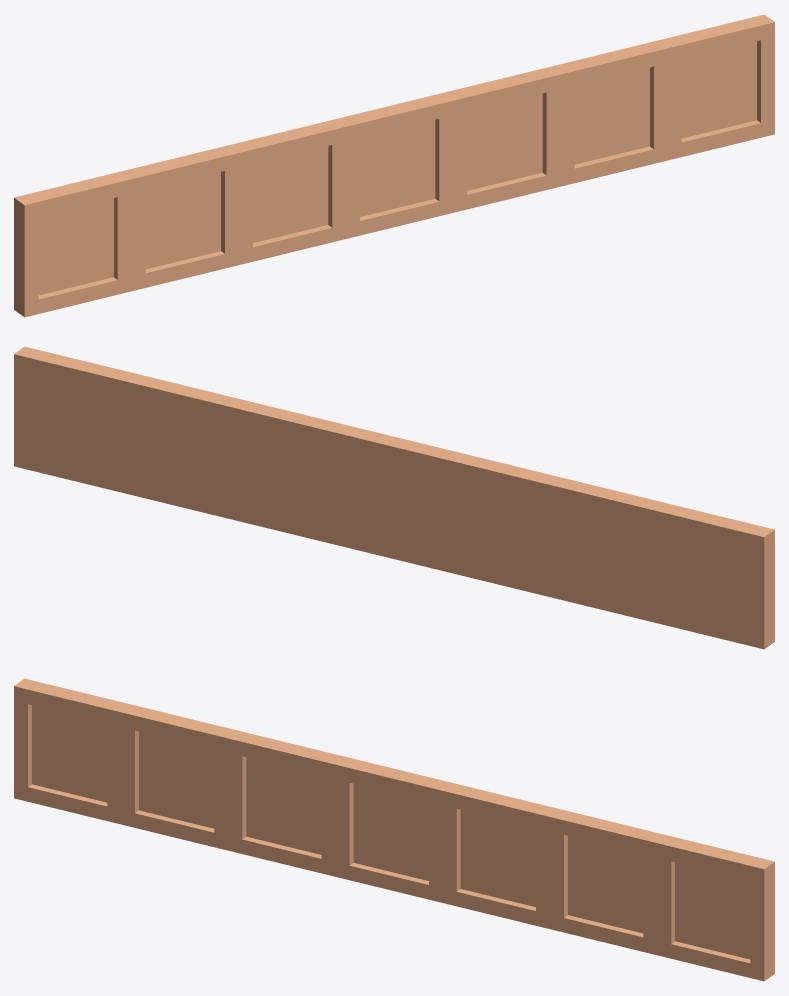
Rendered from BasePartitura.fbx.
3 views of the same model, one above another, from view 1: azimuth 30°, elevation 25°; view 2: azimuth 150°, elevation 25°; view 3: azimuth 330°, elevation 25° (orthographic).
Visible parts, largest first — view 1: BasePartitura; view 2: BasePartitura; view 3: BasePartitura.
Part boxes in pixels (left/top/right/bottom): BasePartitura: left=14, top=14, right=774, bottom=317; BasePartitura: left=14, top=346, right=774, bottom=649; BasePartitura: left=14, top=678, right=774, bottom=981.
Size of the model in its own units: 153 by 21.83 by 3.72.
